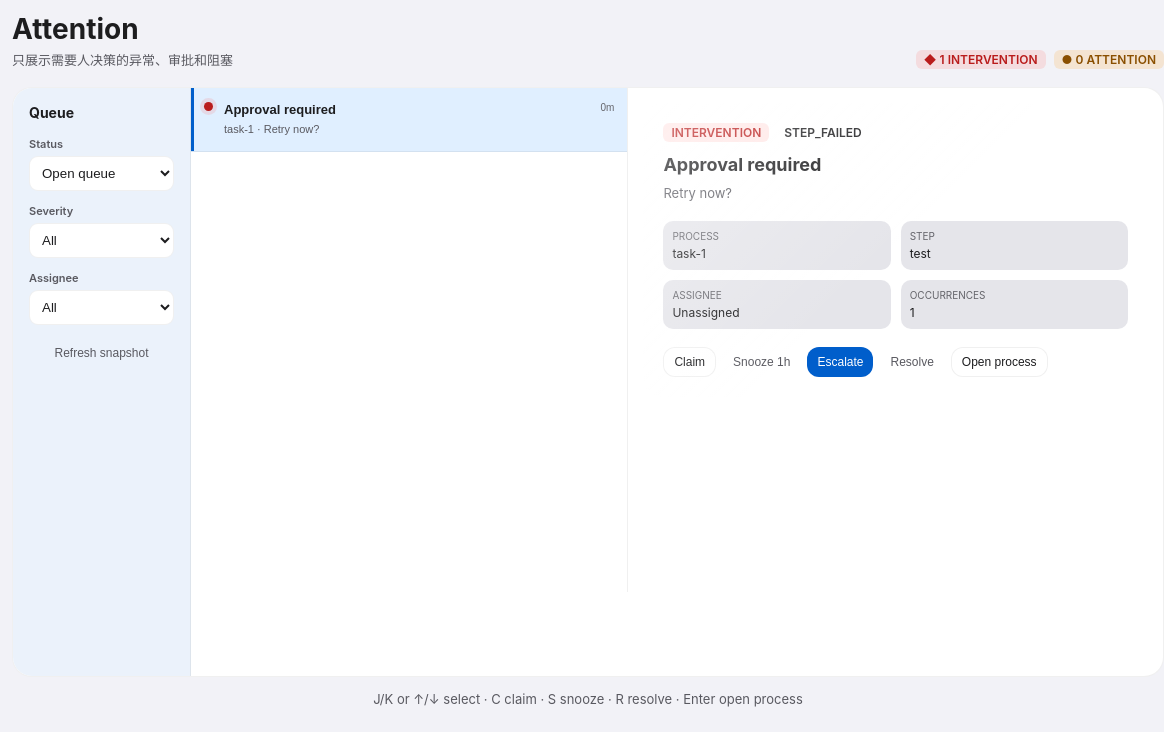
Test case: AttentionInbox component › dismisses a persistent mutation error without changing the restored item
Expected: the text "Retry now?" is shown, left=663, top=185, right=732, bottom=201
Step 1. Click the button "Claim" → (690, 362), box left=663, top=347, right=716, bottom=377
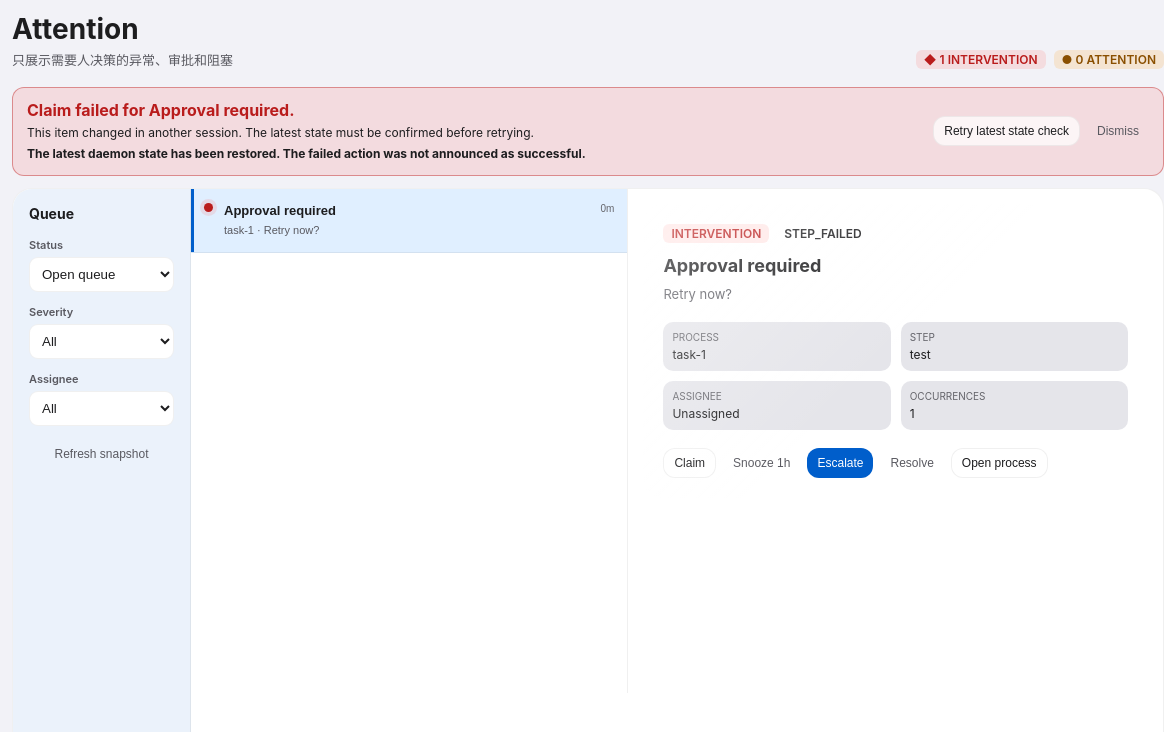
Result: the text "Claim failed for Approval required." is shown at left=27, top=100, right=294, bottom=120
Step 2. Click the button with aria-label "Dismiss claim error" → (1118, 131), box left=1087, top=116, right=1149, bottom=146
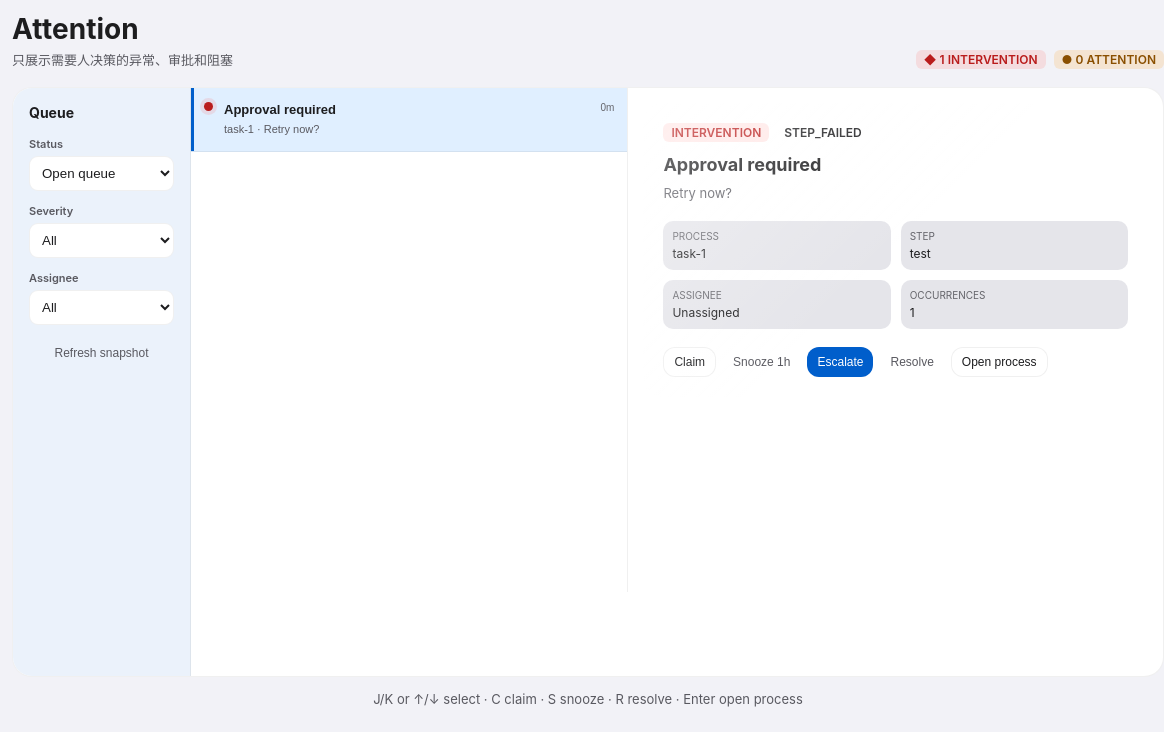
Expected: the button "Claim" is enabled, left=663, top=347, right=716, bottom=377
Result: the text "Claim failed" is gone
